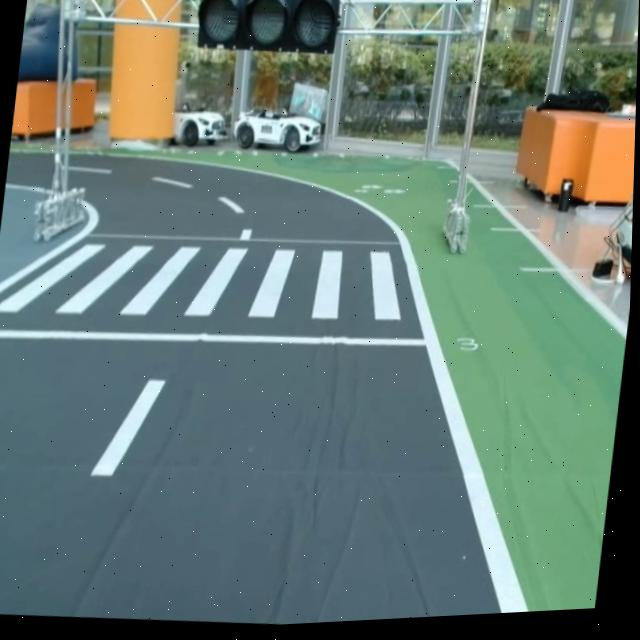traffic-light: (188, 0, 350, 62)
